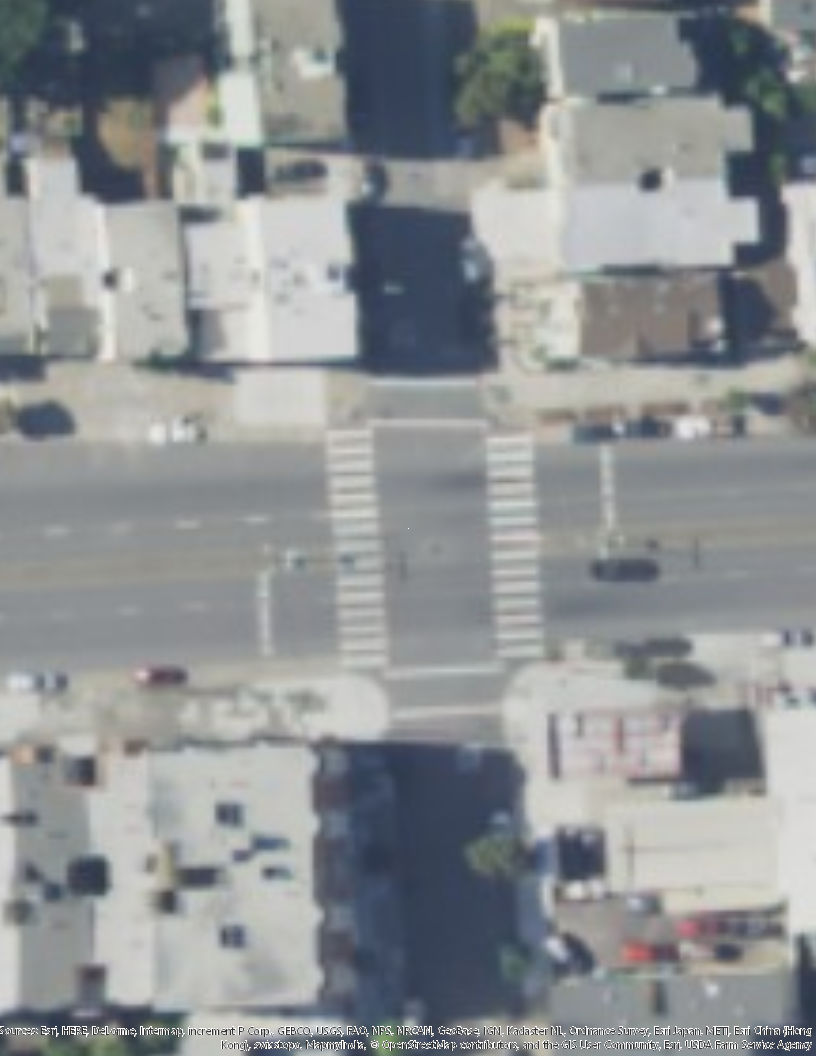zebracross: (319, 432, 391, 673), (482, 429, 545, 659)
